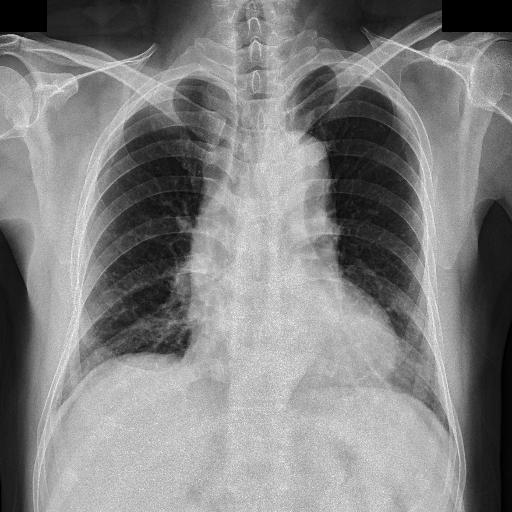Aortic enlargement: (227, 88, 298, 172)
Cardiomegaly: (78, 250, 293, 346)
ILD: (0, 208, 131, 334)
Pleural thickening: (308, 46, 360, 78)
